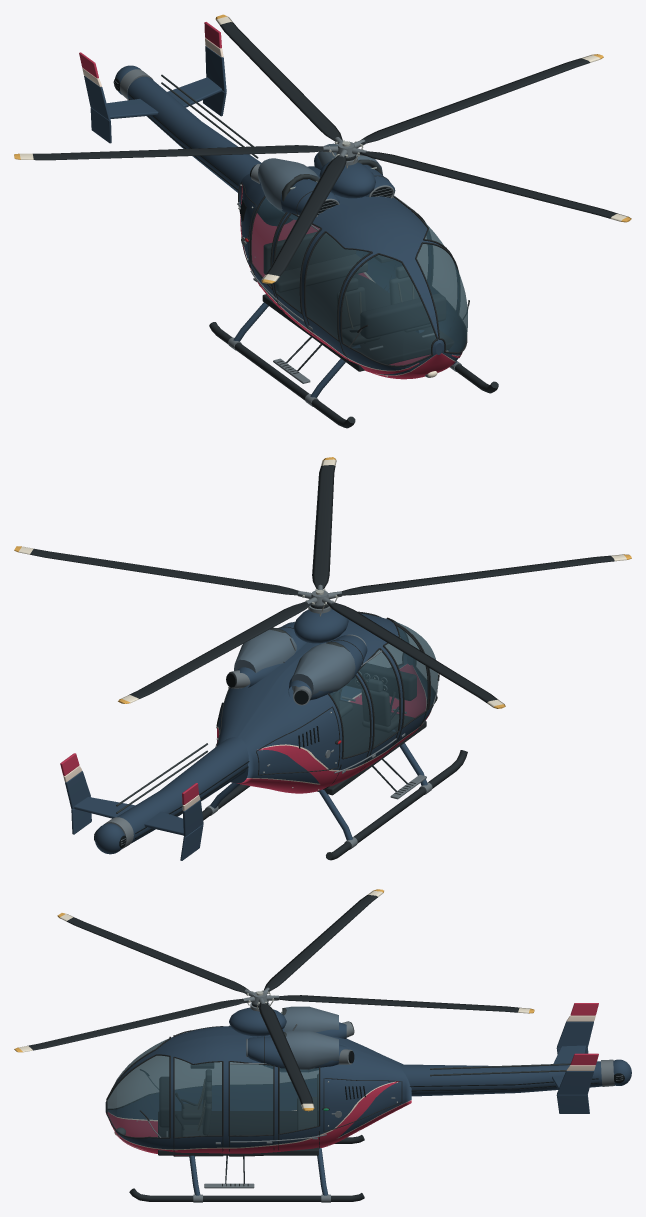
Rendered from MD-Explorer.glb.
3 renders of one model, top to bottom at view 1: azimuth 30°, elevation 25°; view 2: azimuth 150°, elevation 25°; view 3: azimuth 270°, elevation 25°, orthographic. The views are drawn at different scales.
Visible parts, largest first — view 1: Airframe | surfaces, MainRotor | surfaces, Cabin and instruments | surfaces, Boom and stabilizers | surfaces, Landing gear | surfaces, Powerplant and transmission | surfaces, MDEXPLRR fitted exterior; view 2: Airframe | surfaces, MainRotor | surfaces, Boom and stabilizers | surfaces, MDEXPLRR fitted exterior, Cabin and instruments | surfaces, Powerplant and transmission | surfaces, Landing gear | surfaces; view 3: Airframe | surfaces, Boom and stabilizers | surfaces, MainRotor | surfaces, Cabin and instruments | surfaces, MDEXPLRR fitted exterior, Landing gear | surfaces, Powerplant and transmission | surfaces.
Part boxes in pixels (bbox=[...]): Airframe | surfaces: bbox=[237, 158, 469, 379]; MainRotor | surfaces: bbox=[14, 14, 631, 283]; Cabin and instruments | surfaces: bbox=[262, 232, 453, 371]; Boom and stabilizers | surfaces: bbox=[79, 22, 292, 225]; Landing gear | surfaces: bbox=[209, 291, 498, 428]; Powerplant and transmission | surfaces: bbox=[250, 153, 395, 219]; MDEXPLRR fitted exterior: bbox=[161, 74, 382, 211]; Airframe | surfaces: bbox=[215, 611, 439, 793]; MainRotor | surfaces: bbox=[14, 457, 631, 708]; Boom and stabilizers | surfaces: bbox=[60, 737, 249, 860]; MDEXPLRR fitted exterior: bbox=[116, 627, 355, 813]; Cabin and instruments | surfaces: bbox=[317, 663, 426, 795]; Powerplant and transmission | surfaces: bbox=[226, 604, 367, 705]; Landing gear | surfaces: bbox=[202, 730, 467, 860]; Airframe | surfaces: bbox=[105, 1024, 411, 1156]; Boom and stabilizers | surfaces: bbox=[400, 1003, 631, 1113]; MainRotor | surfaces: bbox=[14, 889, 534, 1111]; Cabin and instruments | surfaces: bbox=[158, 1062, 318, 1155]; MDEXPLRR fitted exterior: bbox=[281, 1006, 570, 1076]; Landing gear | surfaces: bbox=[129, 1135, 364, 1202]; Powerplant and transmission | surfaces: bbox=[229, 1002, 354, 1072].
Size of the model in its own units: 9.75 by 3.71 by 11.5.
